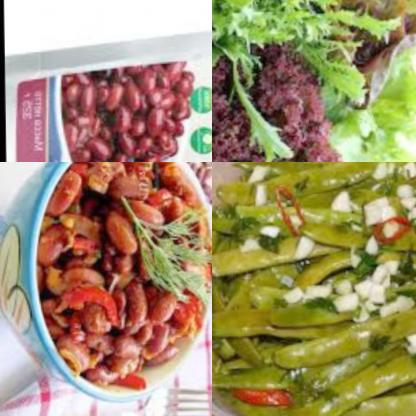cucumber: (212, 79, 343, 162), (312, 0, 416, 91)
fasol: (37, 162, 212, 386), (212, 162, 350, 416), (65, 54, 199, 162), (279, 317, 416, 416), (388, 162, 416, 413), (277, 162, 416, 212), (154, 162, 212, 239)
garlic: (303, 264, 415, 316), (363, 194, 400, 234), (390, 176, 416, 216), (326, 189, 357, 222), (405, 319, 416, 359)
salad: (346, 77, 416, 162)
